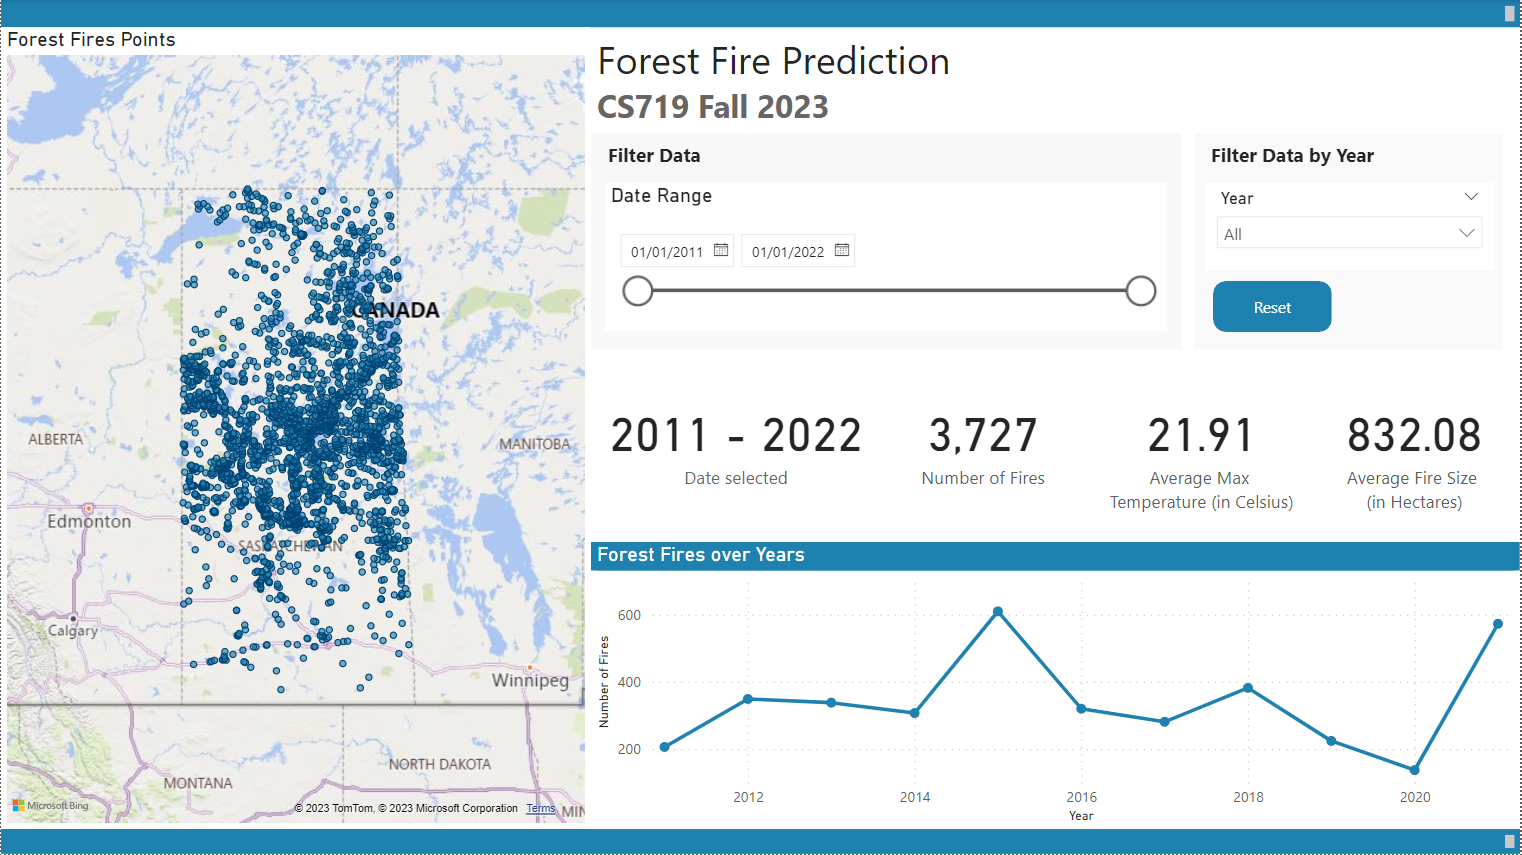

This screenshot's page, from the dashboard's own definition file:
{"tool":"powerbi","page":{"name":"Forest Fires","canvas":[1280,720],"ordinal":0},"visuals":[{"type":"textbox","box":[0,698.5,1280.6,21.5],"z":0},{"type":"shape","box":[497,112.8,454,175.5],"z":1000},{"type":"shape","box":[964.5,112.8,308.1,175.5],"z":2000},{"type":"textbox","box":[497,22.4,345.7,93.1],"z":3000},{"type":"slicer","title":"Date Range","fields":{"Values":["Date.Date"]},"box":[508.7,149.6,432.5,129.8],"z":4000},{"type":"slicer","fields":{"Values":["Date.Year"]},"box":[974.9,150.3,131,74.1],"z":5000},{"type":"textbox","box":[506,114.5,300,39.4],"z":6000},{"type":"textbox","box":[974,114.6,288.9,38],"z":7000},{"type":"textbox","box":[0,0,1280.7,22.8],"z":8000},{"type":"actionButton","box":[982.5,232.2,119,41.5],"z":9000},{"type":"card","fields":{"Values":["Predictions.Date selected"]},"box":[496,288,248,168],"z":10000},{"type":"card","fields":{"Values":["Avg(Predictions.SIZE_HA)"]},"box":[1120,288,144,168],"z":11000},{"type":"card","fields":{"Values":["Avg(Predictions.MAX_TEMPERATURE)"]},"box":[928,288,168,168],"z":12000},{"type":"lineChart","title":"Forest Fires over Years","fields":{"Category":["Date.Year","Date.Month"],"Y":["CountNonNull(Predictions.Check_Condition)"]},"box":[497,456.7,782.7,241.8],"z":13000},{"type":"map","title":"Forest Fires Points","fields":{"Y":["Predictions.FOREST_FIRE_LATITUDE"],"X":["Predictions.FOREST_FIRE_LONGITUDE"]},"box":[0,22.8,497.4,676.2],"z":14000},{"type":"card","fields":{"Values":["Predictions.Number of Fires"]},"box":[752,288,152,168],"z":15000},{"type":"slicer","fields":{"Values":["Date.Month"]},"box":[1112.2,149.7,151.3,75.2],"z":16000}]}

Visuals, with their boxes in screenshot pixels (x1, y1, x2, y2), scaled from the page's 1280x720 canvas onto the 1522x855 screenshot:
textbox: {"x1": 0, "y1": 829, "x2": 1521, "y2": 854}
shape: {"x1": 591, "y1": 134, "x2": 1131, "y2": 342}
shape: {"x1": 1147, "y1": 134, "x2": 1513, "y2": 342}
textbox: {"x1": 591, "y1": 27, "x2": 1002, "y2": 137}
"Date Range" slicer: {"x1": 605, "y1": 178, "x2": 1119, "y2": 332}
slicer - Date.Year: {"x1": 1159, "y1": 178, "x2": 1315, "y2": 266}
textbox: {"x1": 602, "y1": 136, "x2": 958, "y2": 183}
textbox: {"x1": 1158, "y1": 136, "x2": 1502, "y2": 181}
textbox: {"x1": 0, "y1": 0, "x2": 1521, "y2": 27}
actionButton: {"x1": 1168, "y1": 276, "x2": 1310, "y2": 325}
card - Predictions.Date selected: {"x1": 590, "y1": 342, "x2": 885, "y2": 542}
card - Avg(Predictions.SIZE_HA): {"x1": 1332, "y1": 342, "x2": 1503, "y2": 542}
card - Avg(Predictions.MAX_TEMPERATURE): {"x1": 1103, "y1": 342, "x2": 1303, "y2": 542}
"Forest Fires over Years" lineChart: {"x1": 591, "y1": 542, "x2": 1521, "y2": 829}
"Forest Fires Points" map: {"x1": 0, "y1": 27, "x2": 591, "y2": 830}
card - Predictions.Number of Fires: {"x1": 894, "y1": 342, "x2": 1075, "y2": 542}
slicer - Date.Month: {"x1": 1322, "y1": 178, "x2": 1502, "y2": 267}
